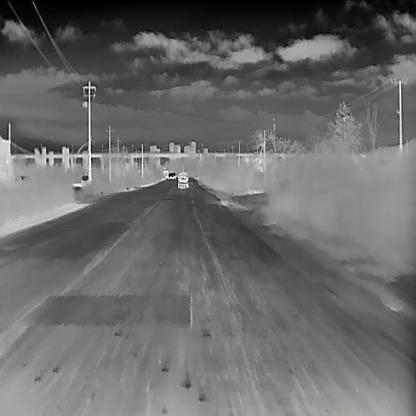car: (176, 172, 188, 188), (79, 174, 88, 184), (166, 171, 173, 179)
